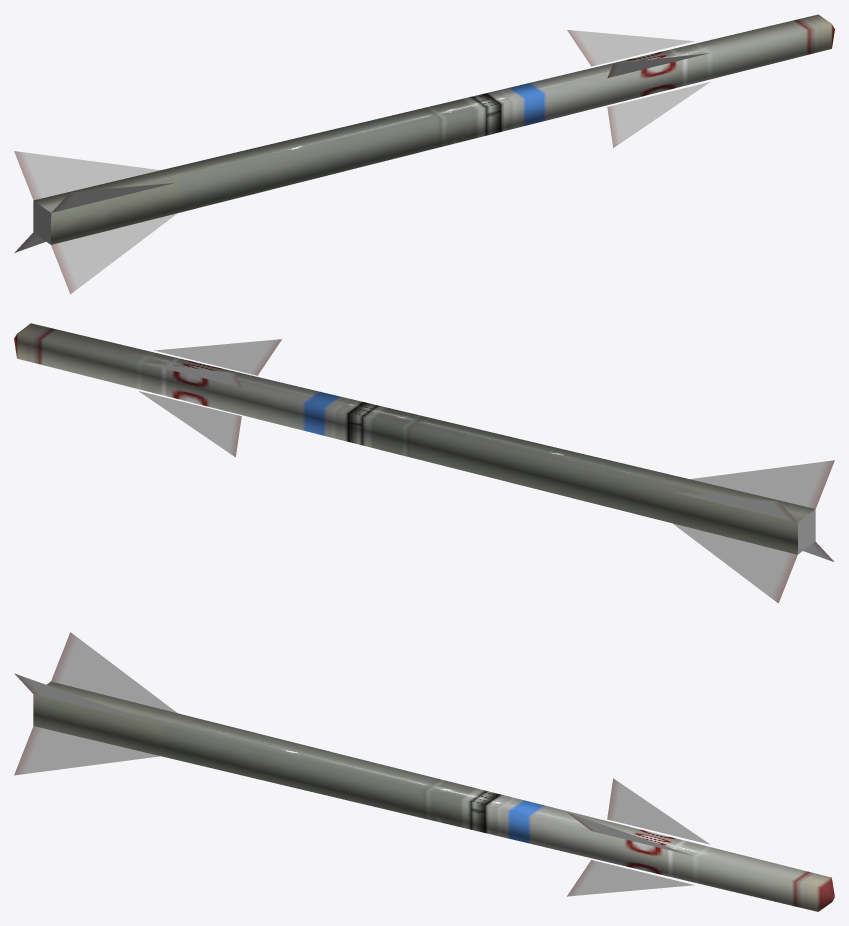
Rendered from projectile_sidewinder_missile_LOD1.obj.
3 views of the same model, one above another, from view 1: azimuth 30°, elevation 25°; view 2: azimuth 150°, elevation 25°; view 3: azimuth 330°, elevation 25° (orthographic).
Parts seen in each view (by area): view 1: mtl_sidewinder_missile; view 2: mtl_sidewinder_missile; view 3: mtl_sidewinder_missile.
Boxes of the visible parts, x1,y1,x2,y2 form: mtl_sidewinder_missile: (14, 14, 834, 294); mtl_sidewinder_missile: (14, 323, 834, 603); mtl_sidewinder_missile: (14, 632, 834, 911).
Size of the model in its own units: 288 by 35.55 by 35.55.
